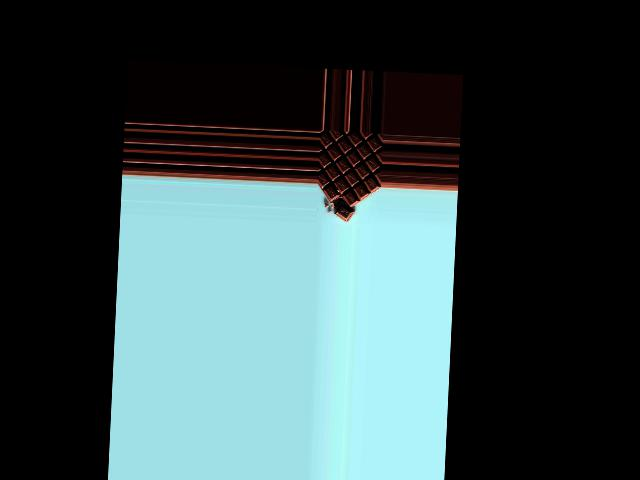chocolate: (317, 129, 381, 213)
